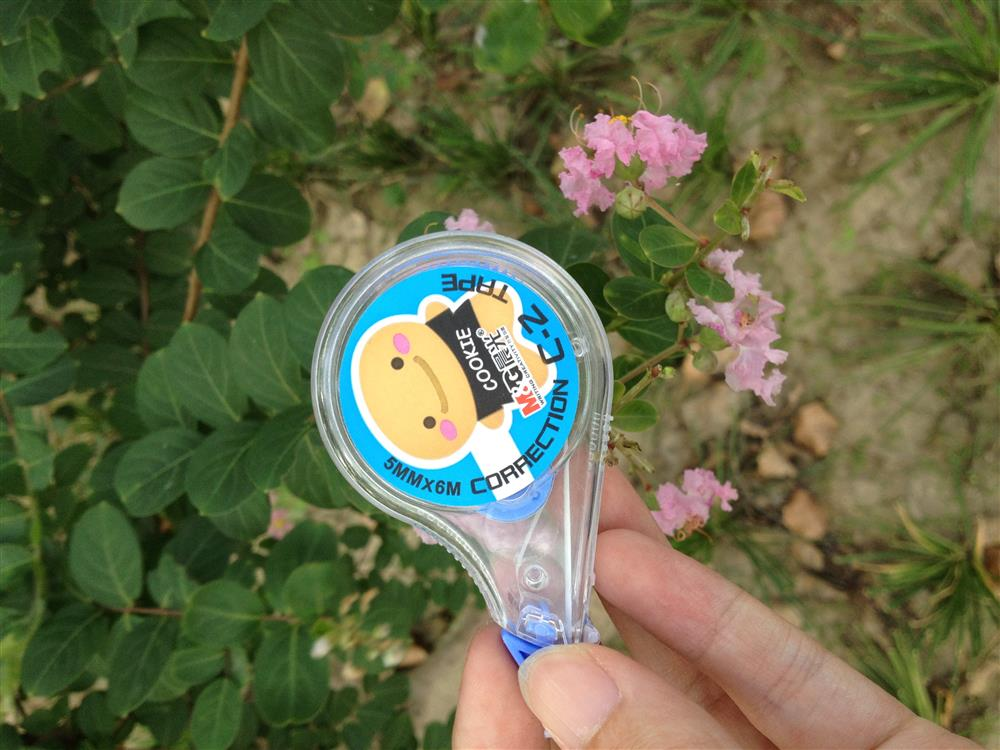correction_tape: (309, 230, 610, 643)
